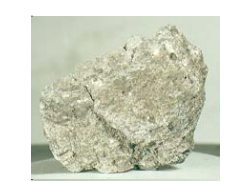Breccia: (32, 27, 212, 175)
